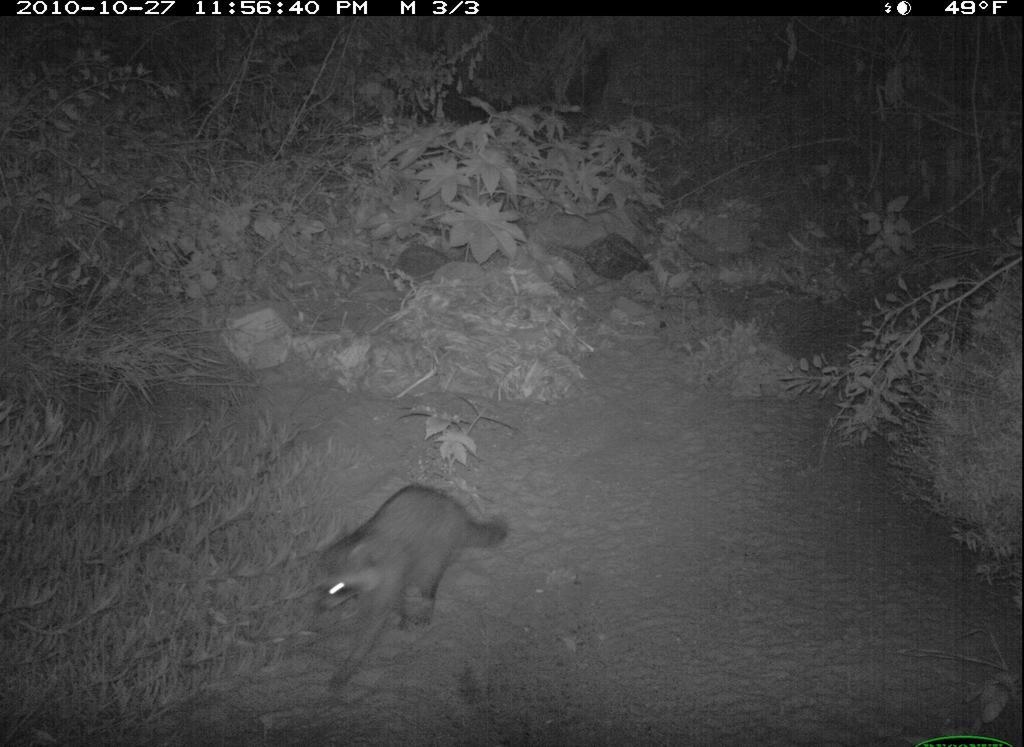raccoon: (310, 478, 515, 694)
